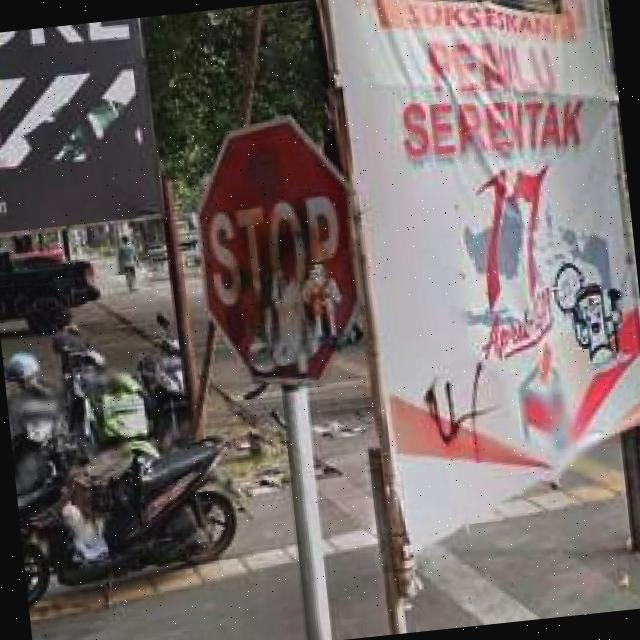Stop: (188, 112, 370, 390)
